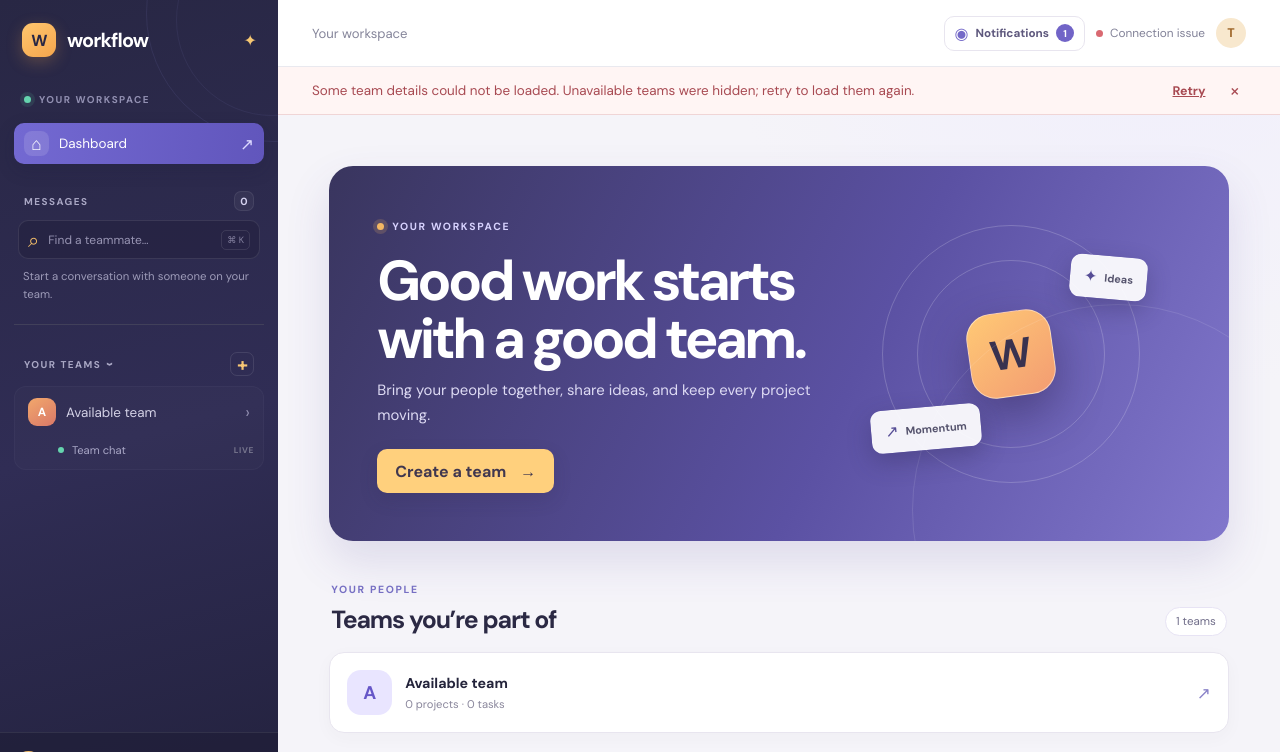
Test: App workspace loading › opens activity notifications and marks an item read before navigating
Click the button with aria-label "Notifications, 1 unread".
click(1014, 33)  # box [944, 16, 1085, 50]
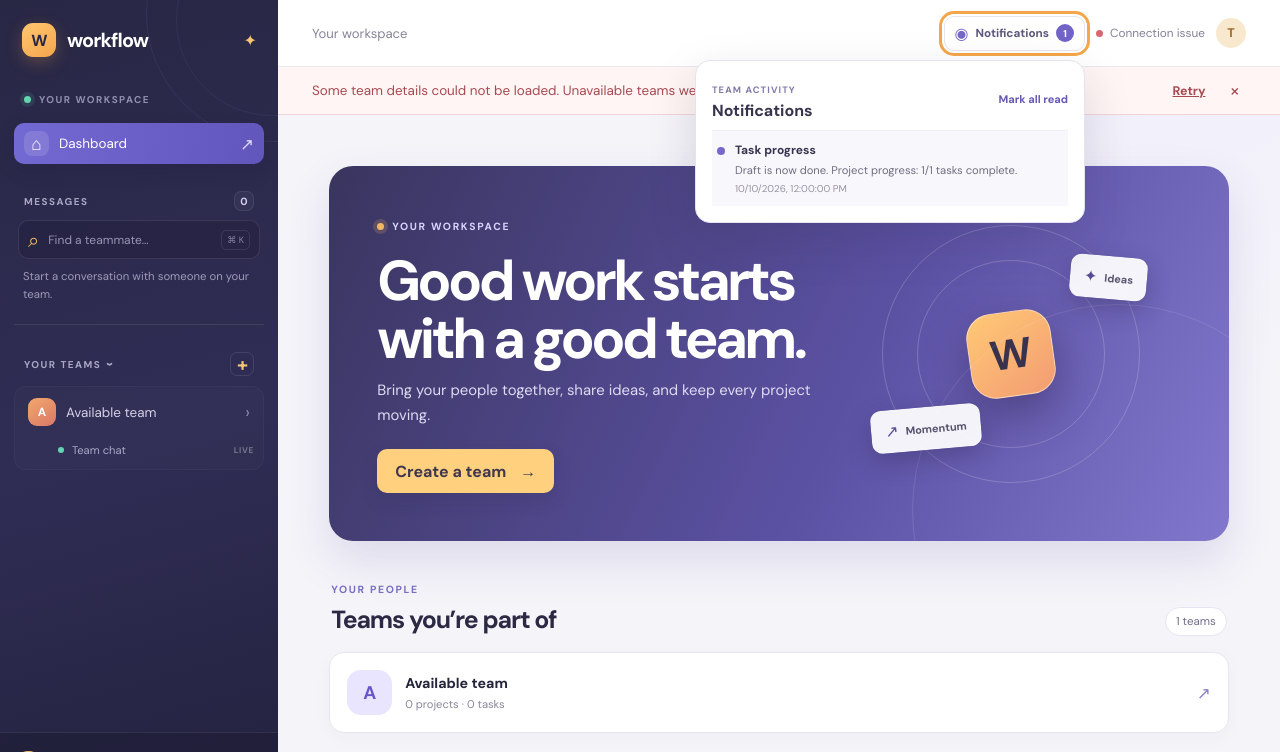
Expected: the text "Draft is now done. Project progress: 1/1 tasks complete." is shown, [735, 162, 1017, 178]
Click the button "Task progress".
click(890, 168)  # box [712, 130, 1068, 206]
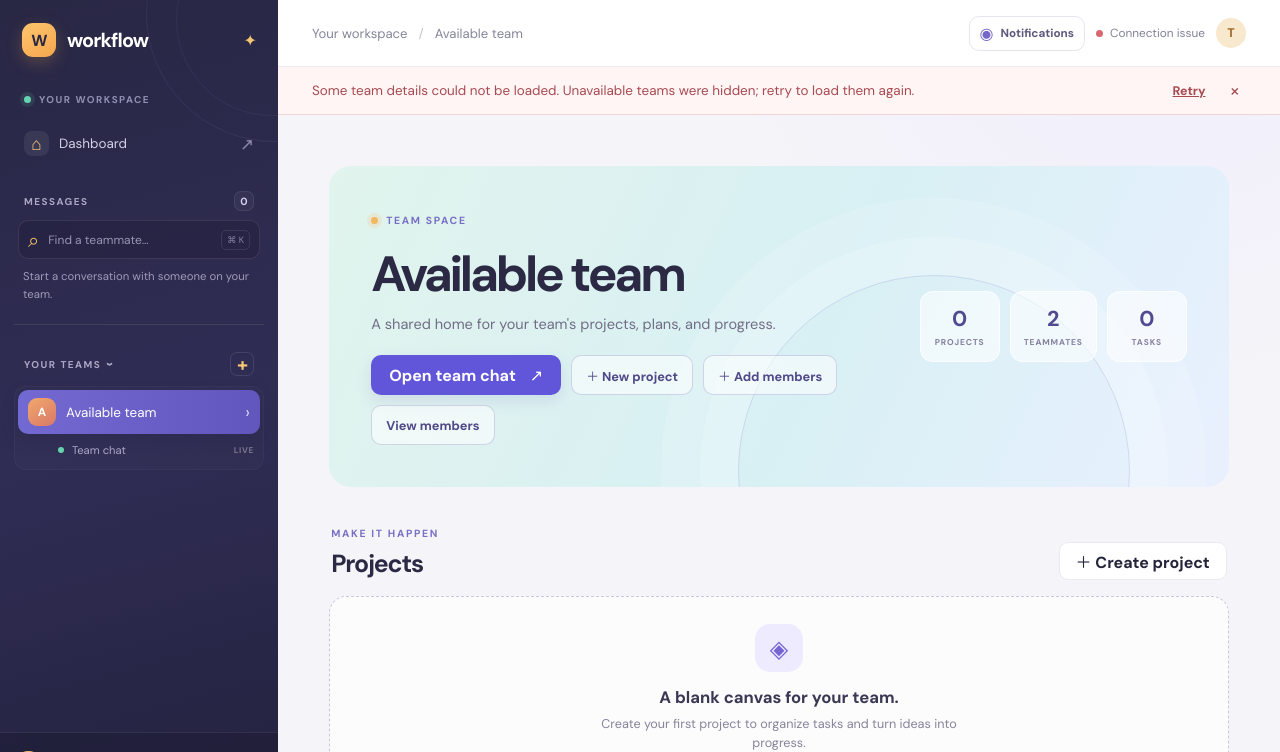
Expected: the heading "Available team" is shown, [371, 242, 684, 306]
